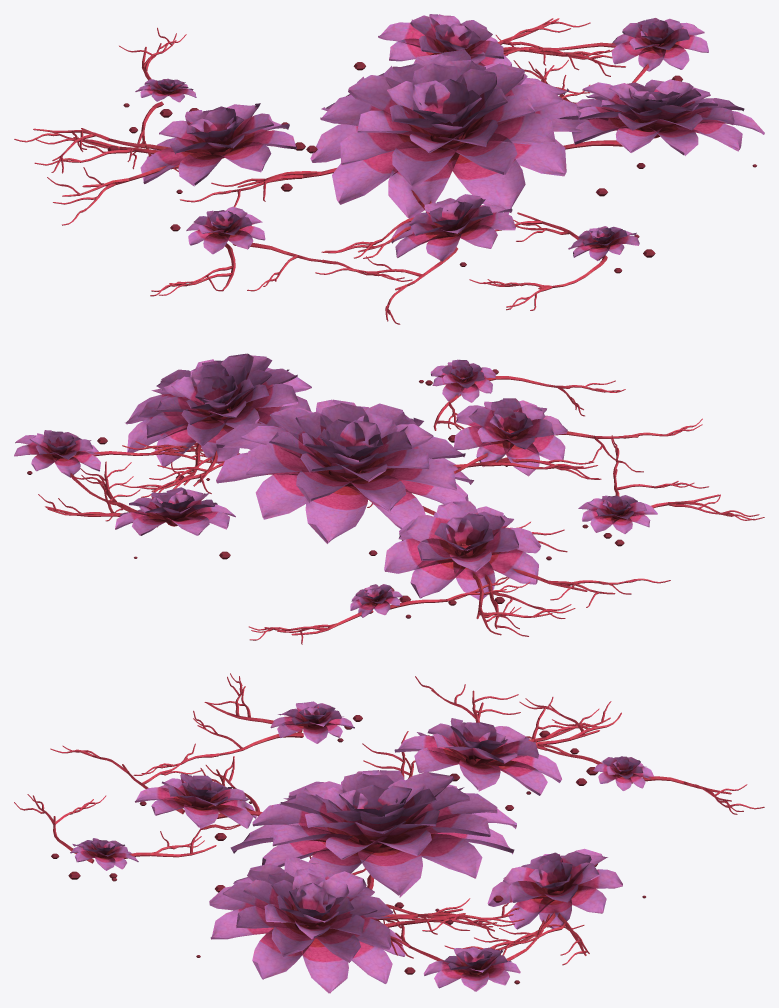
File: mars_icebloom.glb
3 renders of one model, top to bottom at view 1: azimuth 30°, elevation 25°; view 2: azimuth 150°, elevation 25°; view 3: azimuth 270°, elevation 25°, orthographic. The views are drawn at different scales.
Parts seen in each view (by area): view 1: icebloom_body; view 2: icebloom_body; view 3: icebloom_body.
Boxes of the visible parts, <box> form: icebloom_body: <box>14,14,764,324</box>; icebloom_body: <box>14,353,764,644</box>; icebloom_body: <box>14,673,764,993</box>.
Size of what is drawn, in the model's own units: 2.36 by 0.2831 by 2.31.
5 materials, 5 textured.
